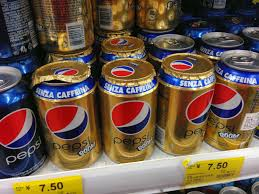can: (31, 59, 105, 178), (107, 57, 155, 164), (216, 46, 259, 159), (160, 54, 209, 153)
